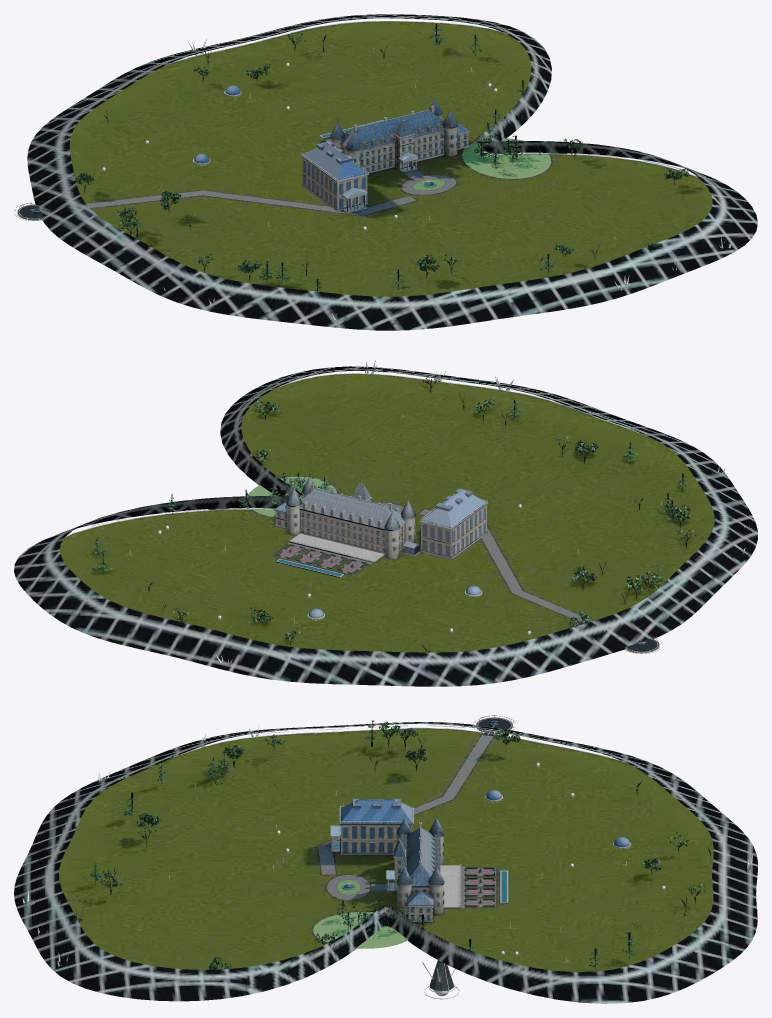
Rendered from rothschild_estate_low.glb.
3 views of the same model, one above another, from view 1: azimuth 30°, elevation 25°; view 2: azimuth 150°, elevation 25°; view 3: azimuth 270°, elevation 25° (orthographic). The views are drawn at different scales.
Visible parts, largest first — view 1: site_ground, props_ward, site_garden, site_trees, walls_ext, roof, windows, props_magitech, props_railings; view 2: site_ground, props_ward, walls_ext, roof, site_trees, site_garden, windows, props_railings, props_magitech; view 3: site_ground, props_ward, site_garden, roof, site_trees, walls_ext, props_magitech, windows, props_railings, props_underside.
Boxes of the visible parts, x1,y1,x2,y2 form: site_ground: (69,21,712,296); props_ward: (27,14,757,330); site_garden: (86,120,551,215); site_trees: (75,23,688,291); walls_ext: (301,114,470,213); roof: (302,98,469,197); windows: (303,126,466,208); props_magitech: (102,18,731,323); props_railings: (165,21,698,180); site_ground: (60,374,714,652); props_ward: (14,366,757,686); walls_ext: (274,492,488,562); roof: (275,472,486,548); site_trees: (92,375,695,652); site_garden: (248,476,592,623); windows: (278,498,485,556); props_railings: (65,373,648,561); props_magitech: (70,360,751,665); site_ground: (59,728,713,971); props_ward: (14,722,757,1003); site_garden: (313,735,508,948); roof: (330,799,444,905); site_trees: (70,720,710,969); walls_ext: (331,807,460,921); props_magitech: (22,725,753,966); windows: (343,827,444,919); props_railings: (169,727,627,906); props_underside: (422,960,459,999).
Size of the model in its own units: 341 by 67.54 by 373.
Materials: 13 (13 with a texture image).
